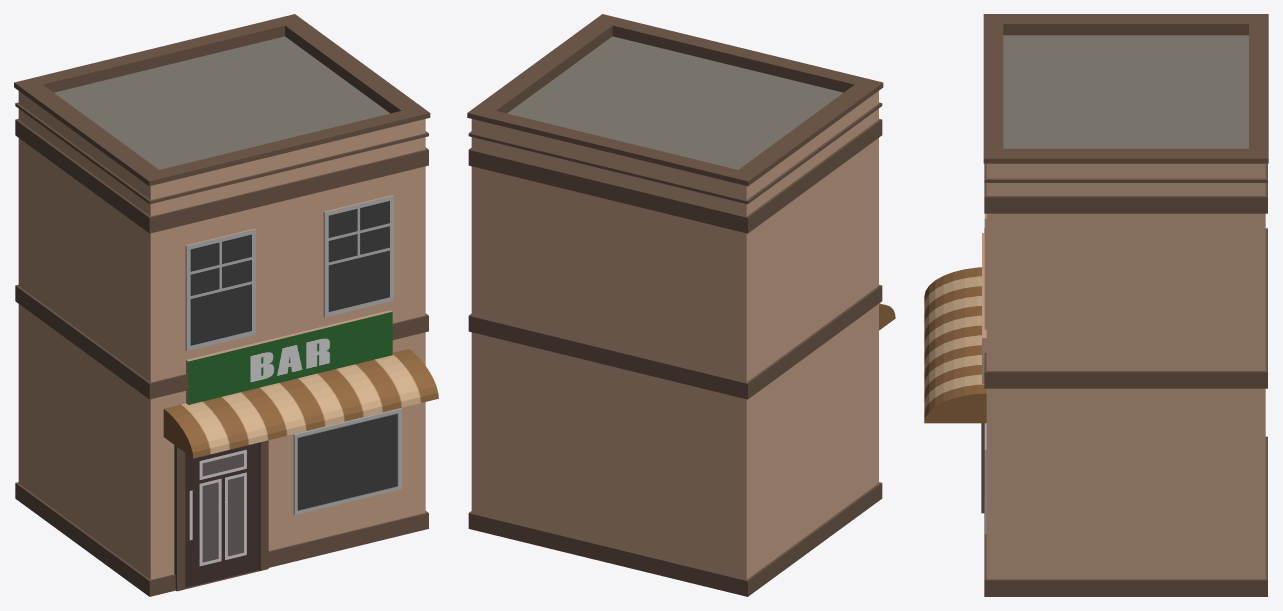
File: Building_Bar.glb
3 renders of one model, left to right at view 1: azimuth 30°, elevation 25°; view 2: azimuth 150°, elevation 25°; view 3: azimuth 270°, elevation 25°, orthographic. The views are drawn at different scales.
Parts seen in each view (by area): view 1: Building_Bar; view 2: Building_Bar; view 3: Building_Bar.
Boxes of the visible parts, left/top/right/bottom form: Building_Bar: left=14, top=14, right=438, bottom=596; Building_Bar: left=467, top=14, right=895, bottom=596; Building_Bar: left=924, top=14, right=1268, bottom=596.
Size of the model in its own units: 7.36 by 10.41 by 7.41.
Materials: 1 (1 with a texture image).
